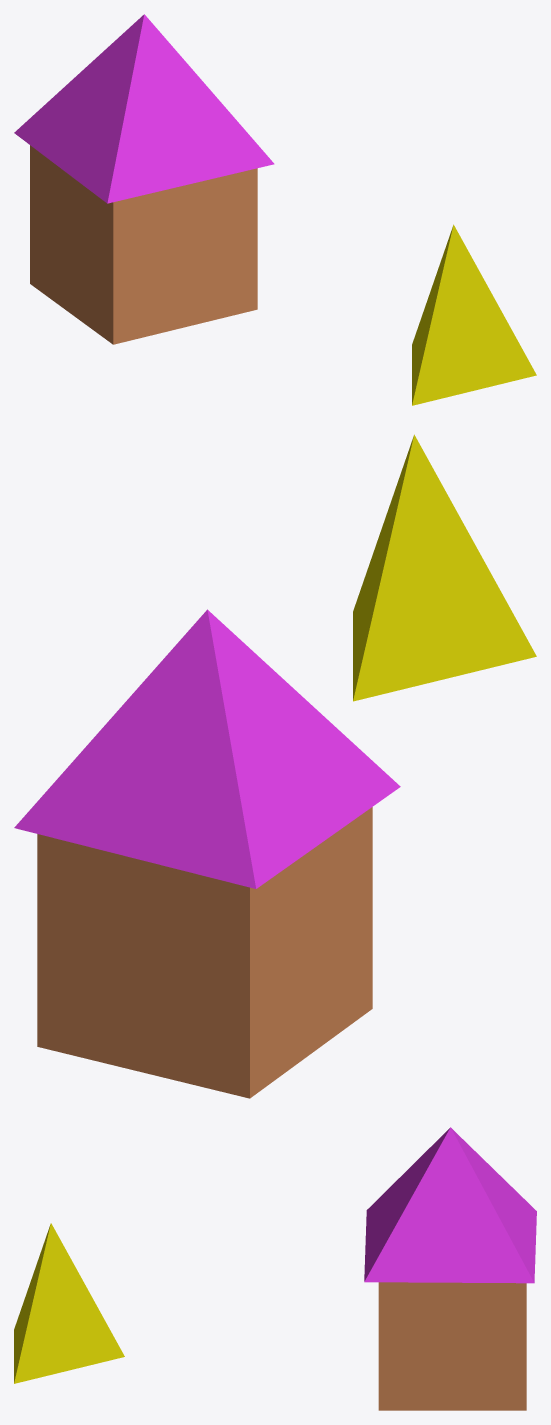
File: GGJ.fbx
The picture shows the model from 3 angles, top to bottom: view 1: azimuth 30°, elevation 25°; view 2: azimuth 150°, elevation 25°; view 3: azimuth 270°, elevation 25°; orthographic projection. The views are drawn at different scales.
Parts seen in each view (by area): view 1: Cube, Partner; view 2: Cube, Partner; view 3: Cube, Partner.
Part boxes in pixels (x1,y1,x2,y2): Cube: (14, 14, 274, 344); Partner: (412, 224, 536, 405); Cube: (14, 609, 400, 1098); Partner: (353, 434, 536, 701); Cube: (364, 1127, 536, 1410); Partner: (14, 1223, 124, 1383).
Bounding box in the file's own units: 320 × 375 × 706.
